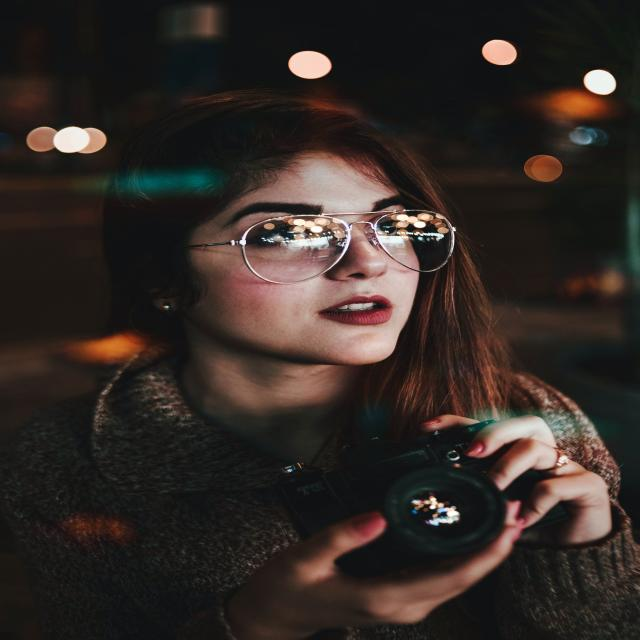adult: (92, 97, 628, 640)
